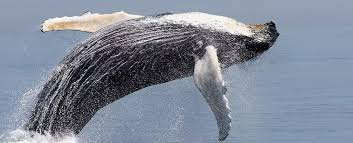humpback: (26, 14, 277, 130)
